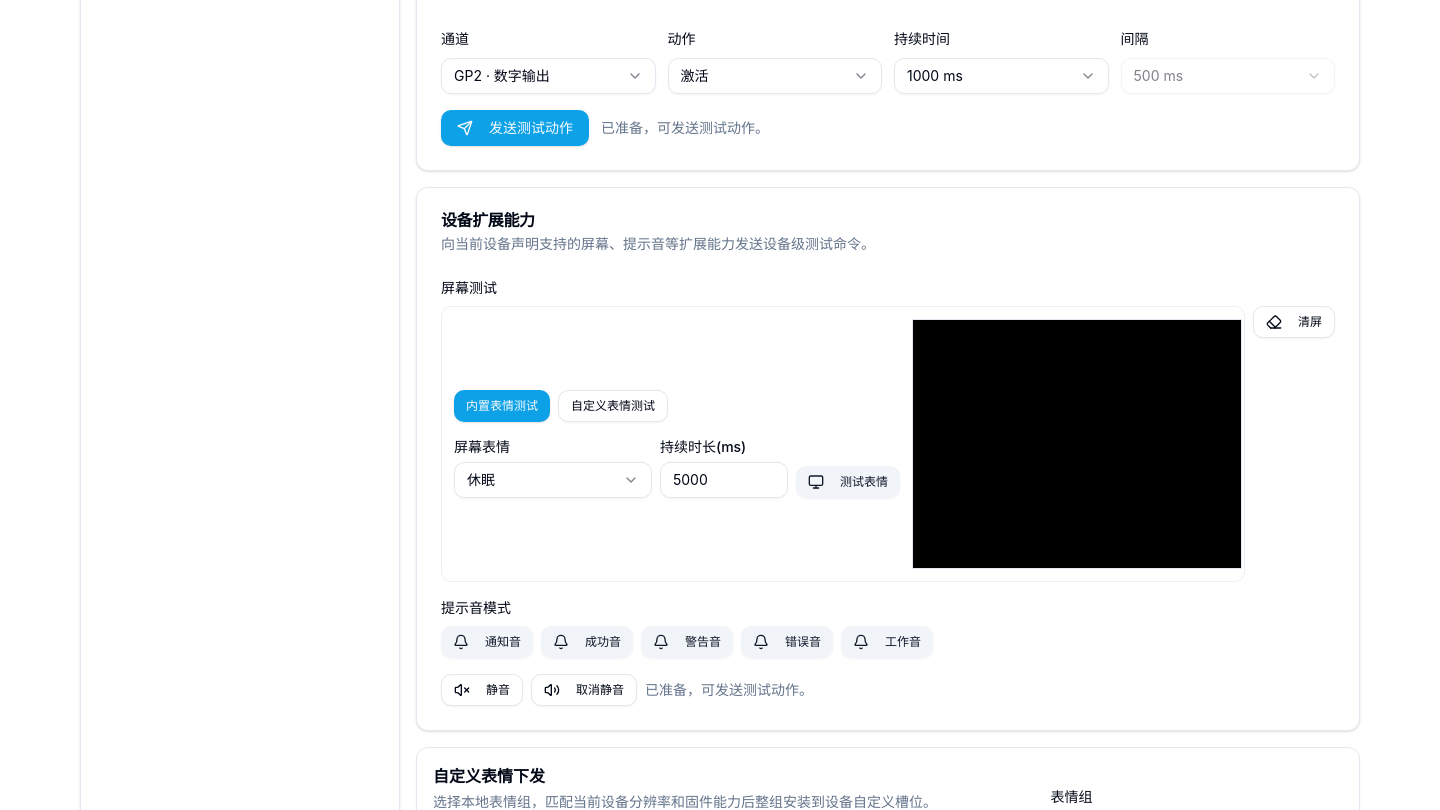
DevicesPage › disables custom face test until the installed group is activated
(page scrolled)
Click the button "自定义表情测试": click(613, 406) [558,390,668,422]
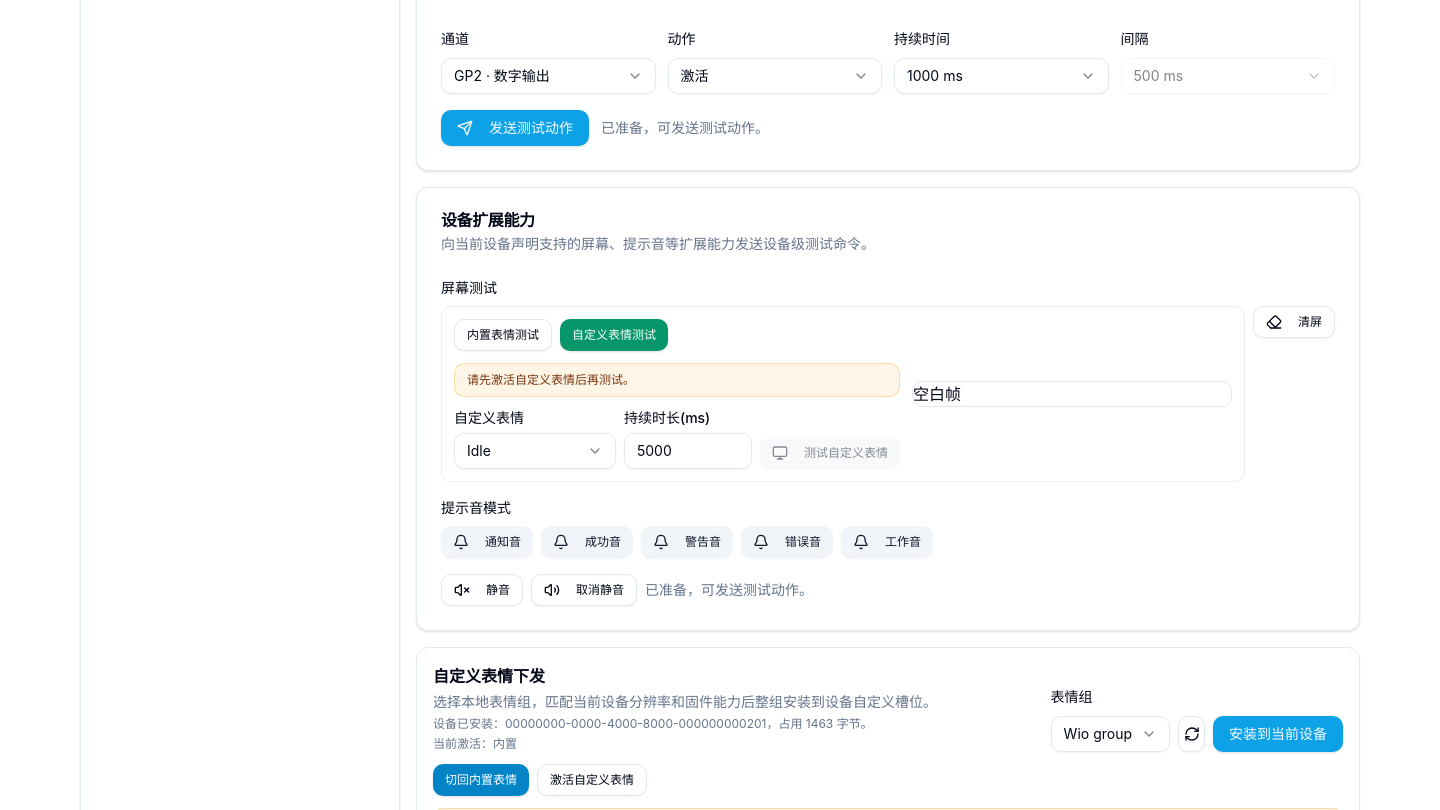
Check: the text "请先激活自定义表情后再测试。" is shown, box [454,362,900,396]
Check: the button "测试自定义表情" is disabled, box [760,436,900,468]
